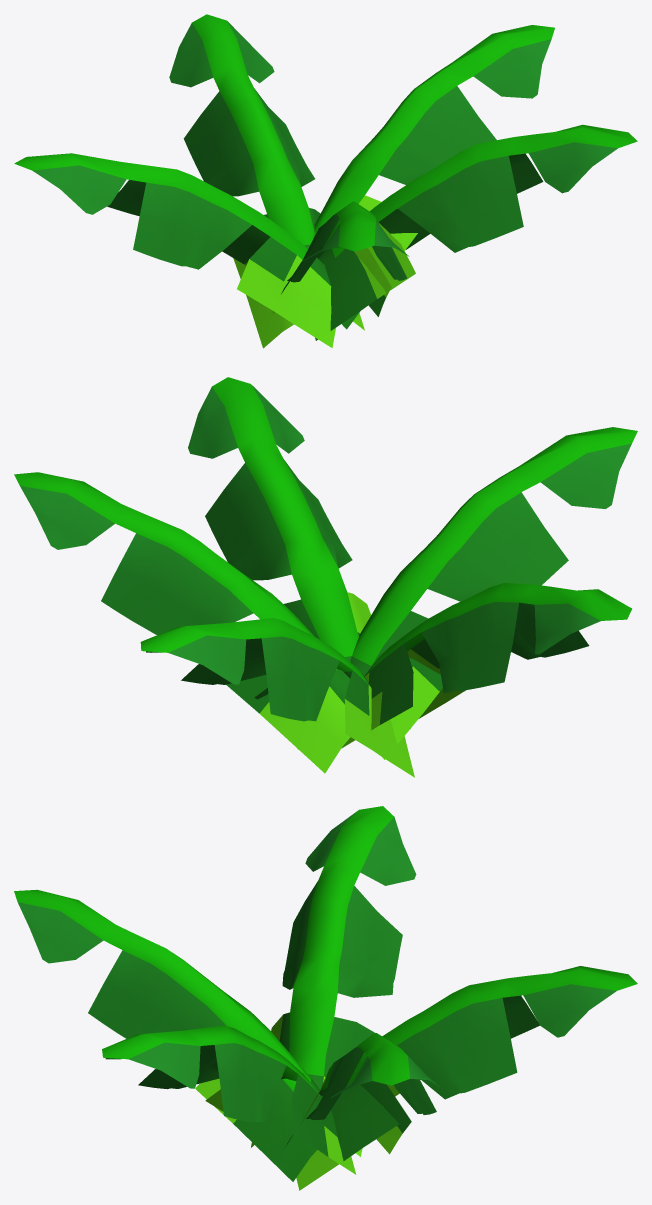
File: paporotnik.fbx
The picture shows the model from 3 angles, top to bottom: view 1: azimuth 30°, elevation 25°; view 2: azimuth 150°, elevation 25°; view 3: azimuth 270°, elevation 25°; orthographic projection. The views are drawn at different scales.
Parts seen in each view (by area): view 1: Plane.014; view 2: Plane.014; view 3: Plane.014.
Boxes of the visible parts, box(x1,y1,x2,y2) form: Plane.014: box(14, 14, 637, 348); Plane.014: box(14, 377, 637, 777); Plane.014: box(14, 806, 637, 1190).
Bounding box in the file's own units: 135 × 52.84 × 128.
